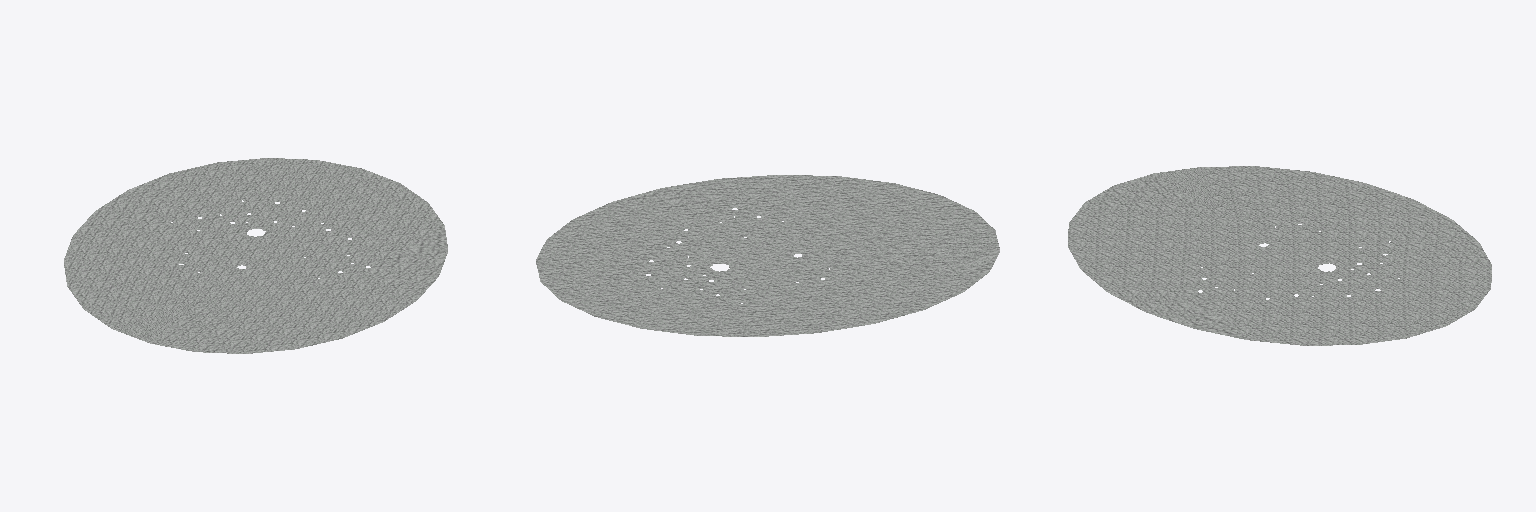
3 renders of one model, left to right at view 1: azimuth 30°, elevation 25°; view 2: azimuth 150°, elevation 25°; view 3: azimuth 270°, elevation 25°, orthographic.
Parts seen in each view (by area): view 1: mesh0; view 2: mesh0; view 3: mesh0.
Boxes of the visible parts, x1,y1,x2,y2 form: mesh0: [64, 158, 447, 353]; mesh0: [536, 175, 999, 336]; mesh0: [1068, 166, 1491, 345].
Size of the model in its own units: 2977 by 0.6762 by 2977.
Materials: 1 (1 with a texture image).